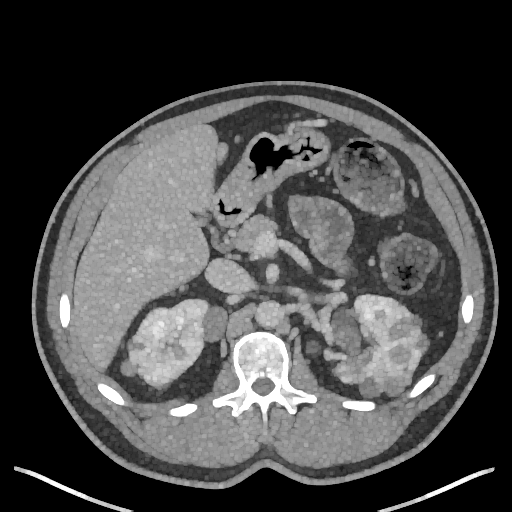Lesion: (385, 310, 427, 345)
